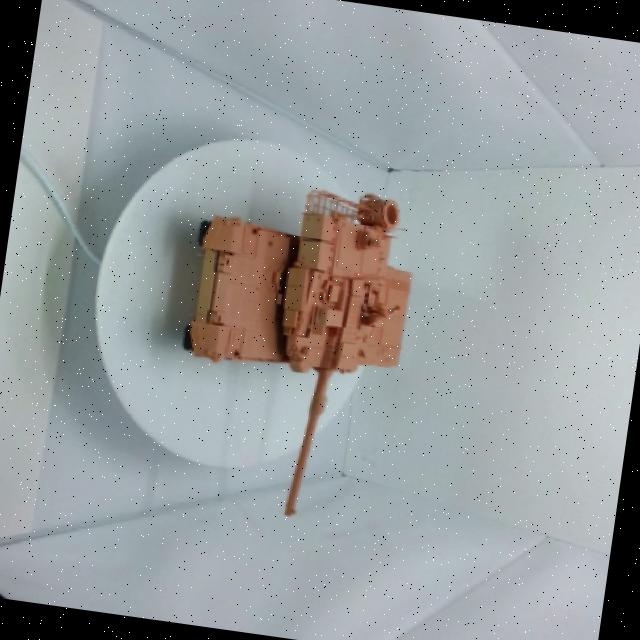korea tank: (124, 129, 470, 545)
